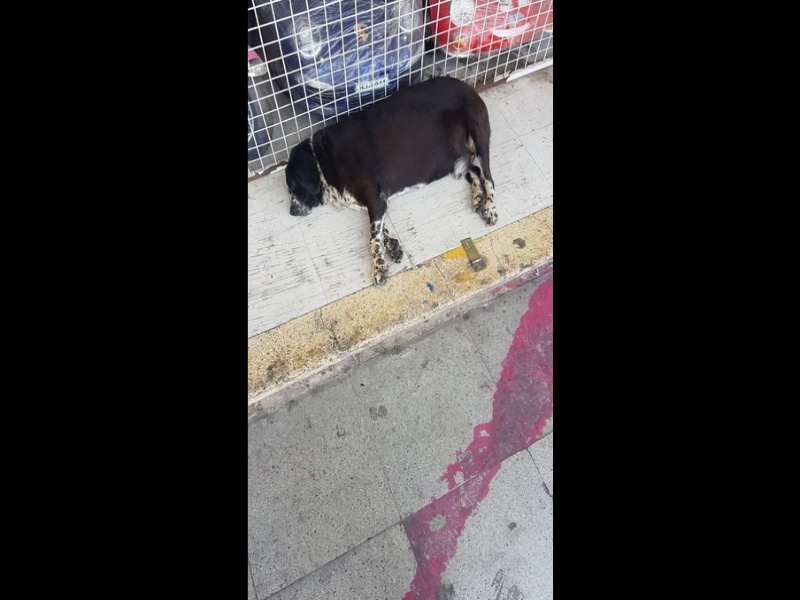dog: (281, 73, 501, 288)
